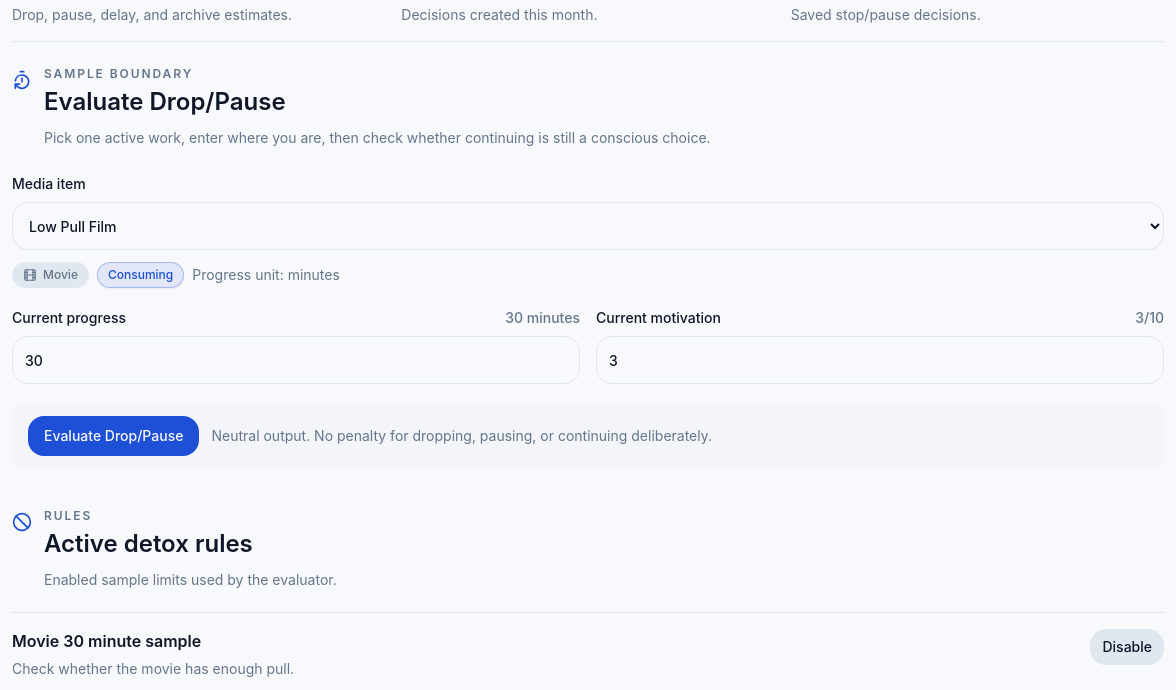
Test case: CompletionDetoxPage › evaluates a drop decision and can mark the media as dropped
(page scrolled)
Replace the text in the number field labelled "Current progress 30 minutes" with "35" at (296, 360), box [12, 336, 580, 384]
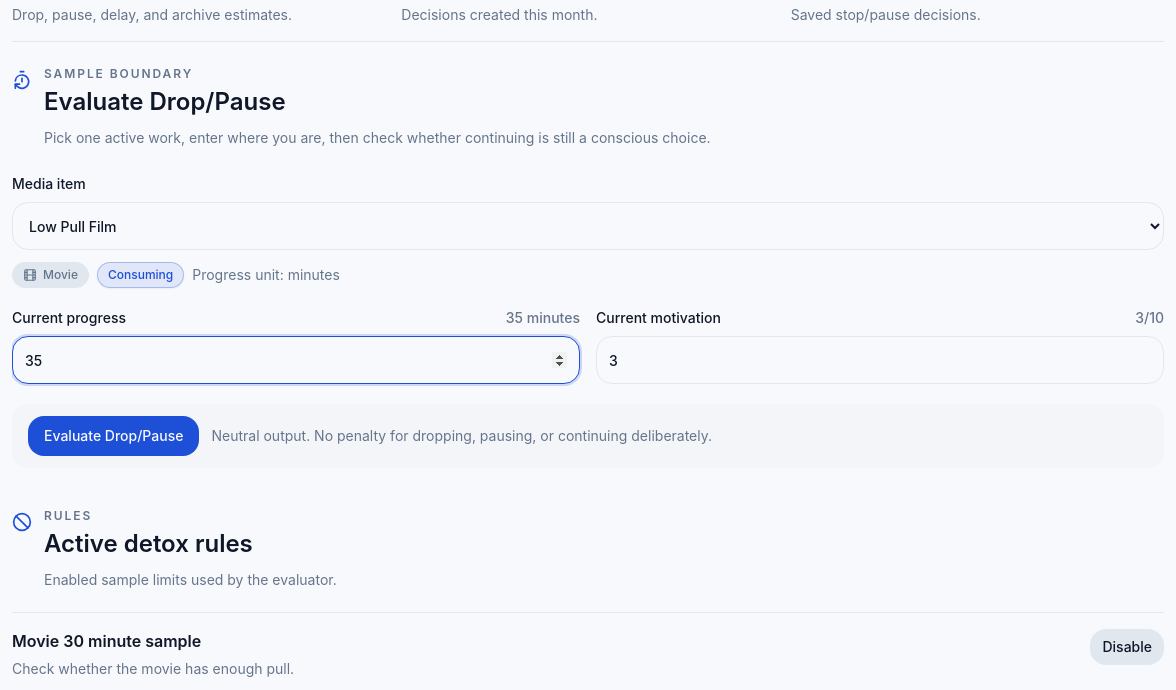
Replace the text in the number field labelled "Current motivation 3/10" with "2" at (880, 360), box [596, 336, 1164, 384]
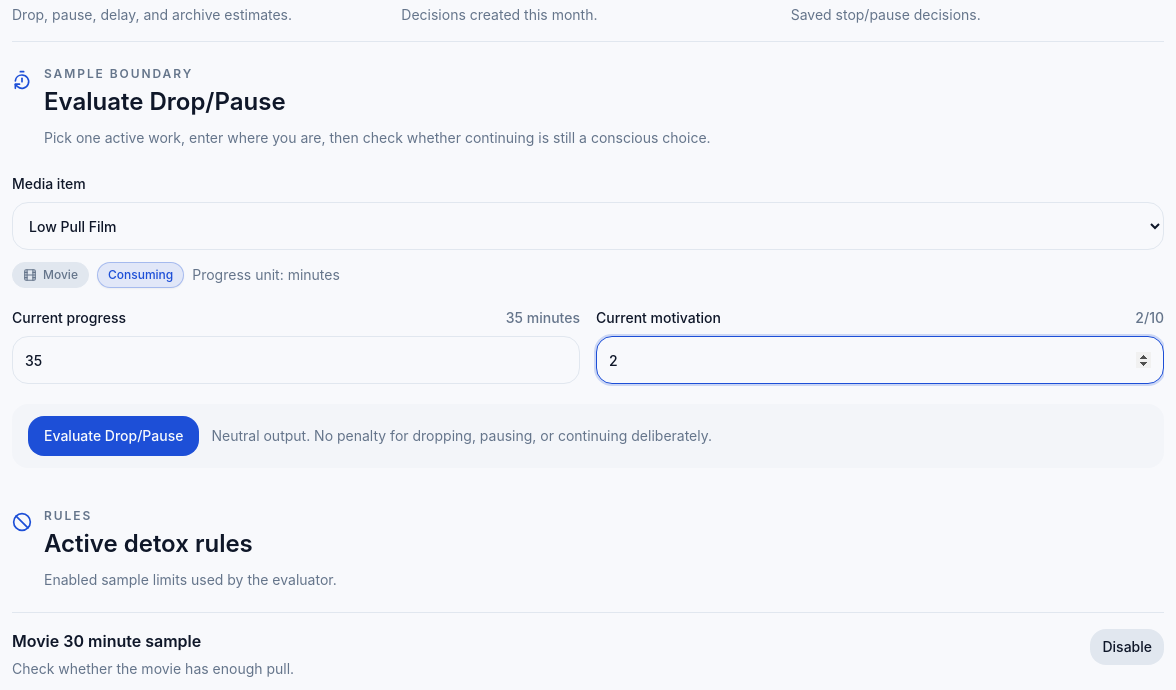
Click the button "Evaluate Drop/Pause" at (114, 436), box [28, 416, 199, 456]
(page scrolled)
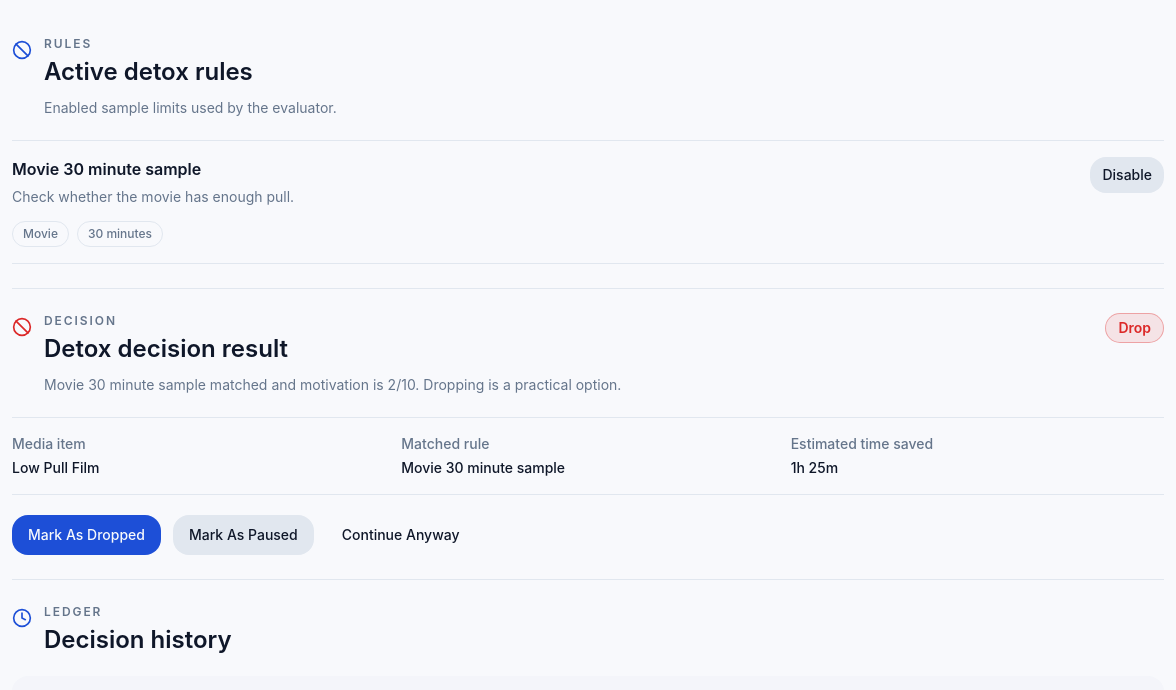
Check: the heading "Detox decision result" is shown, box [44, 334, 288, 363]
Check: the text "dropping is a practical option" is shown, box [44, 376, 621, 393]
Check: the text "1h 25m" is shown, box [791, 459, 838, 476]
Click the button "Mark As Dropped" at (86, 535), box [12, 515, 161, 555]
(page scrolled)
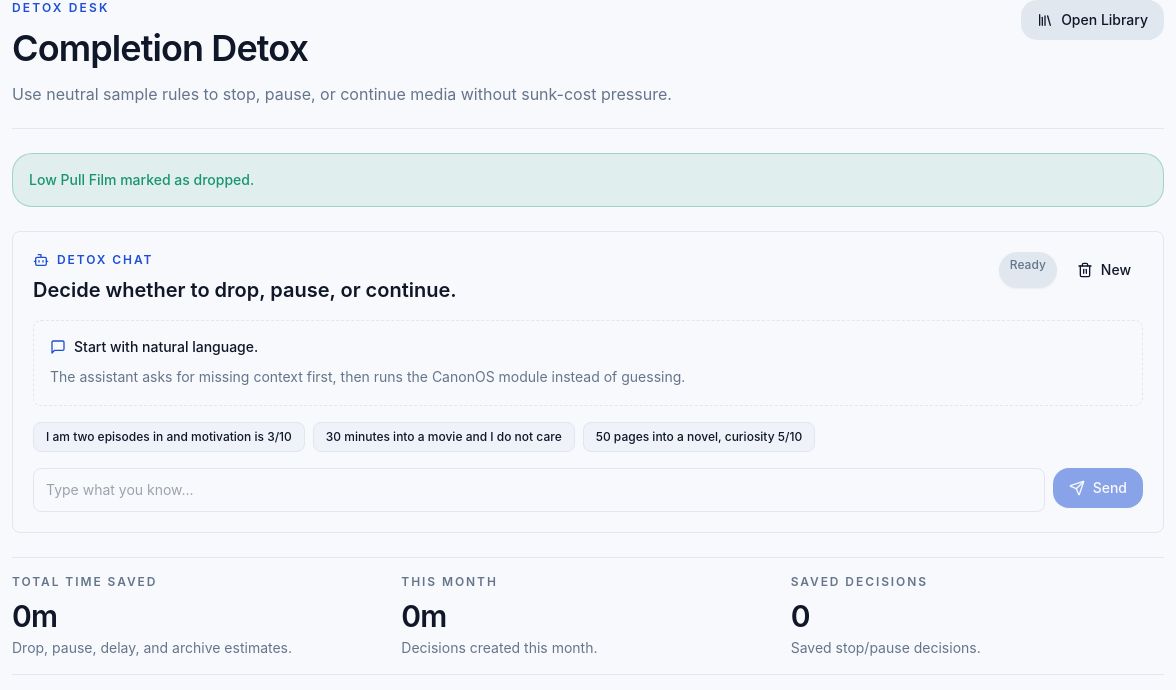
Check: the text "Low Pull Film marked as dropped." is shown, box [12, 153, 1164, 207]
